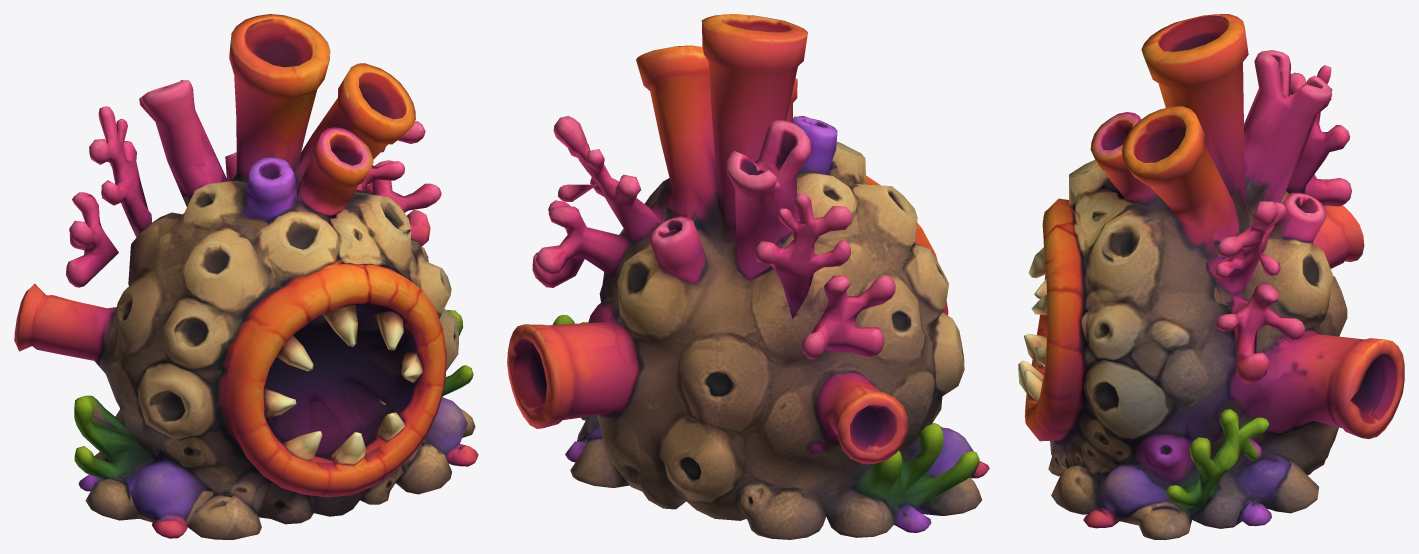
File: tripo_convert_28224994-e7c7-4ea9-b6fa-6e16fcd2d67a.fbx
3 renders of one model, left to right at view 1: azimuth 30°, elevation 25°; view 2: azimuth 150°, elevation 25°; view 3: azimuth 270°, elevation 25°, orthographic. The views are drawn at different scales.
Parts seen in each view (by area): view 1: tripo_node_28224994; view 2: tripo_node_28224994; view 3: tripo_node_28224994.
Part boxes in pixels (x1,y1,x2,y2): tripo_node_28224994: [14, 14, 478, 539]; tripo_node_28224994: [507, 14, 989, 539]; tripo_node_28224994: [1018, 14, 1404, 539].
Size of the model in its own units: 0.9434 by 0.998 by 0.8027.
Materials: 1 (1 with a texture image).
